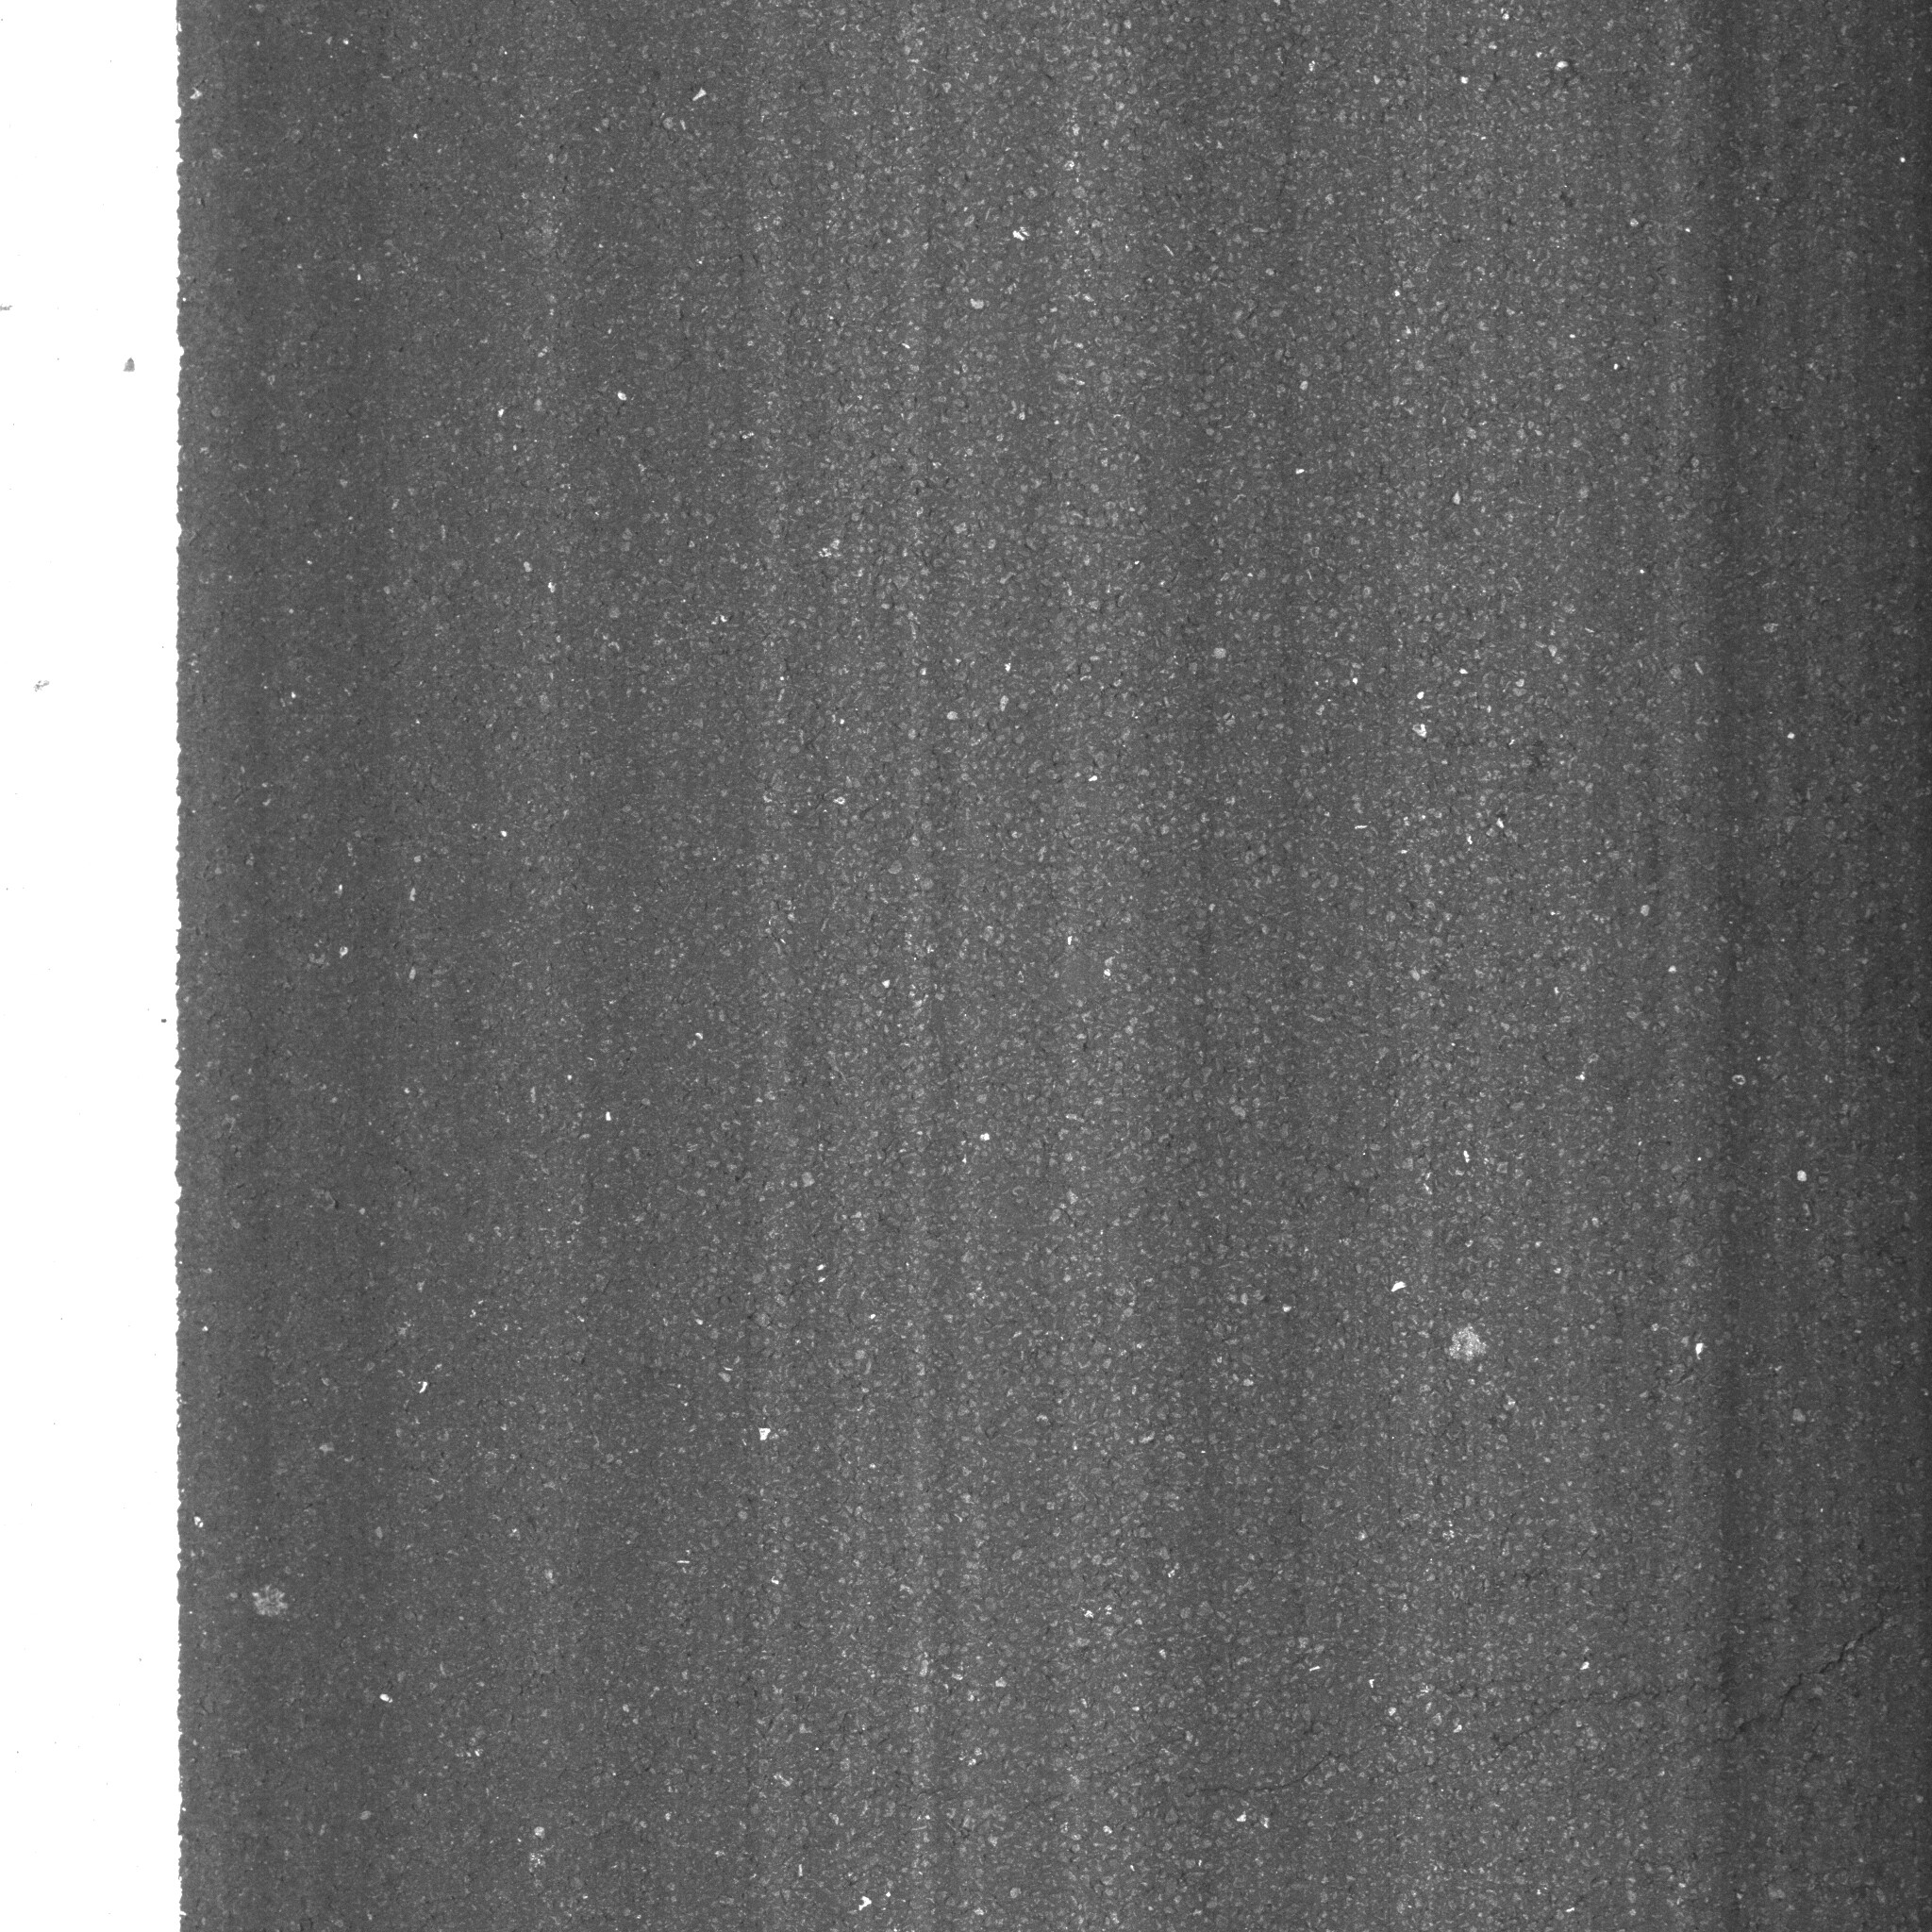transverse: (899, 1645, 1895, 1831)
